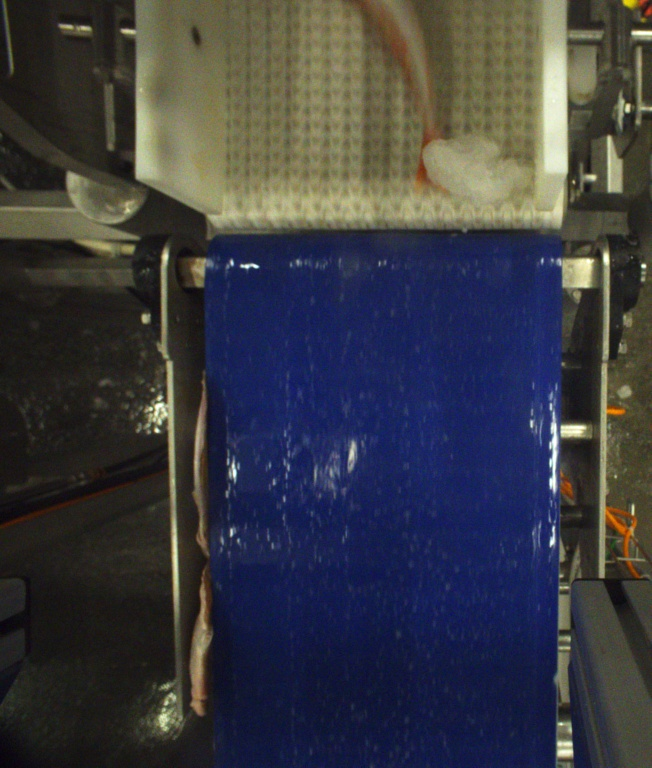GUU: (356, 0, 445, 197)
